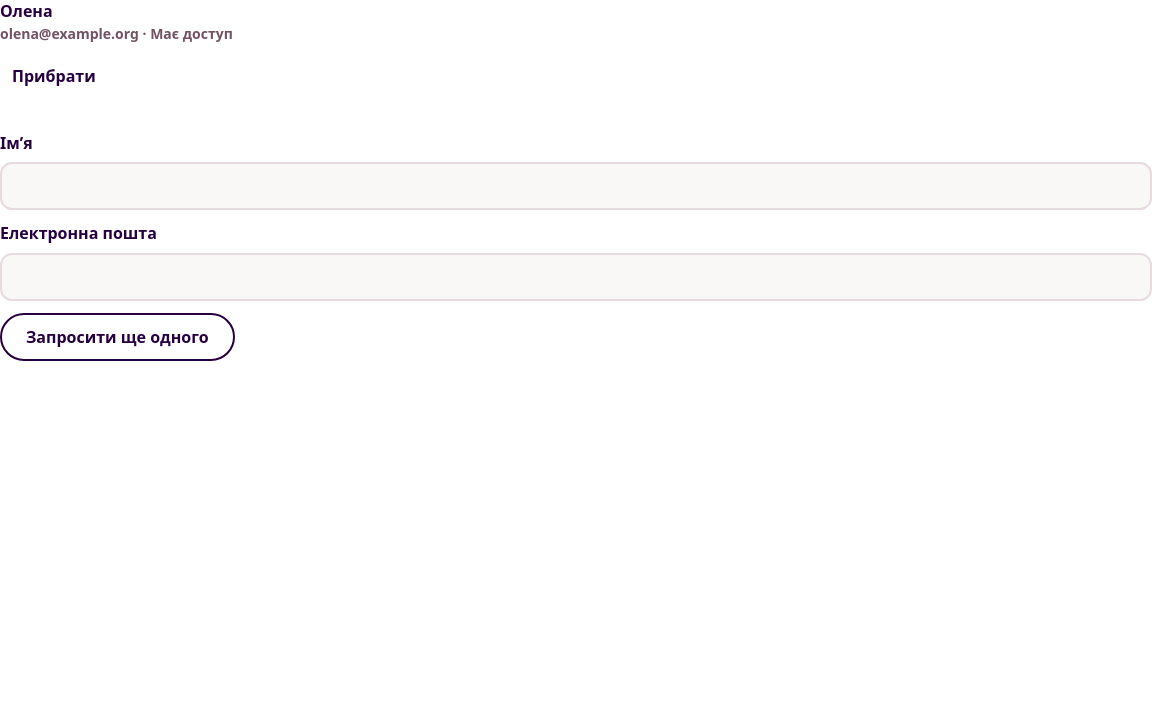
Test: remove asks first › already gone (NOT_FOUND): re-reads and says the access is already closed
The image size is (1152, 720).
Click the button "Прибрати".
click(54, 76)  # box 0,52 -> 108,100
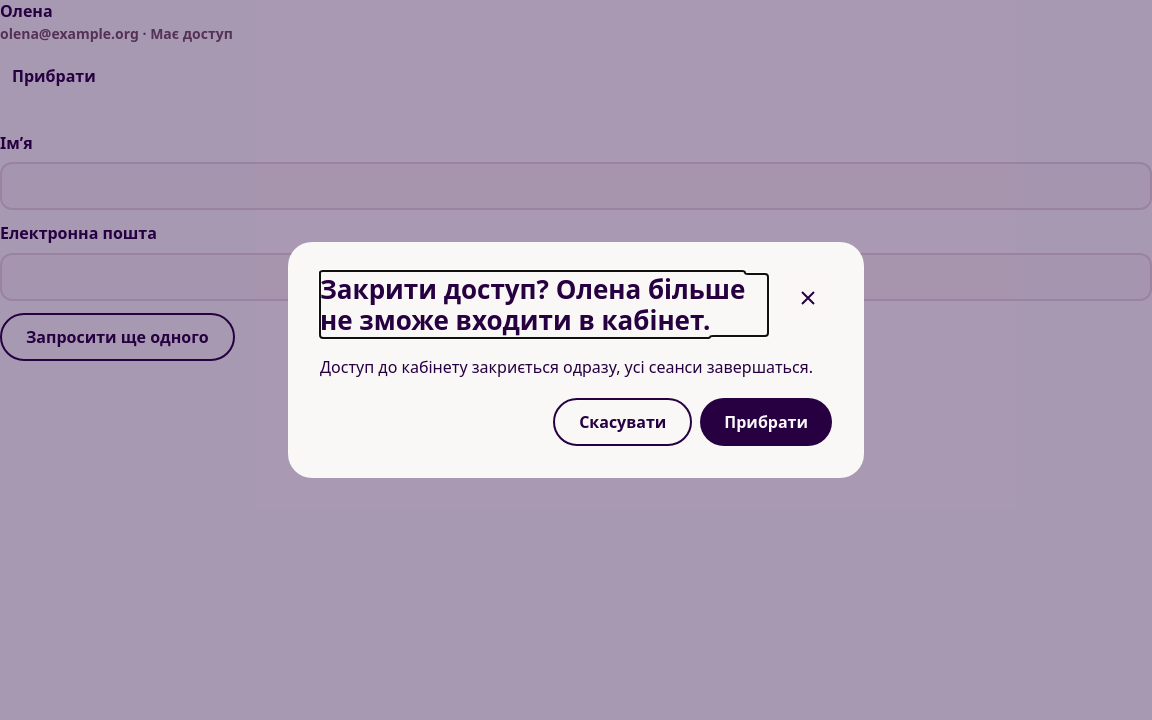
Click the button "Прибрати".
click(766, 422)  # box 700,398 -> 832,446
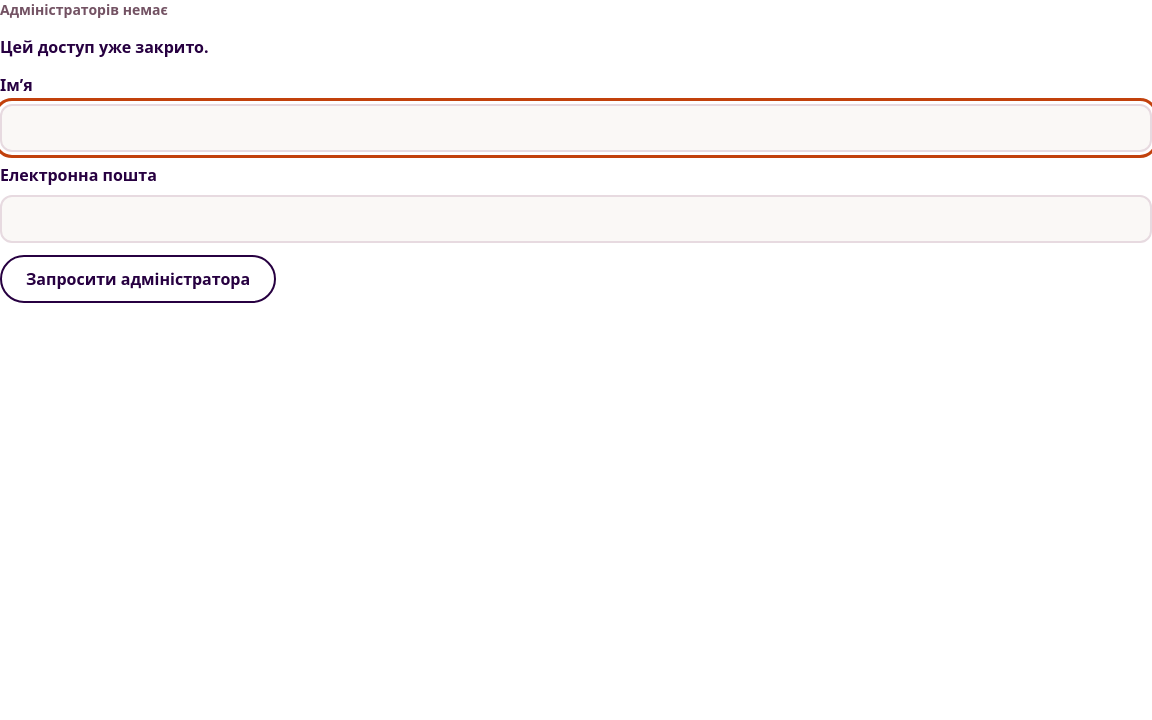
Result: the message reads "Цей доступ уже закрито." at 0,36 -> 208,58
Result: the text "Адміністраторів немає" is shown at 0,0 -> 168,19
